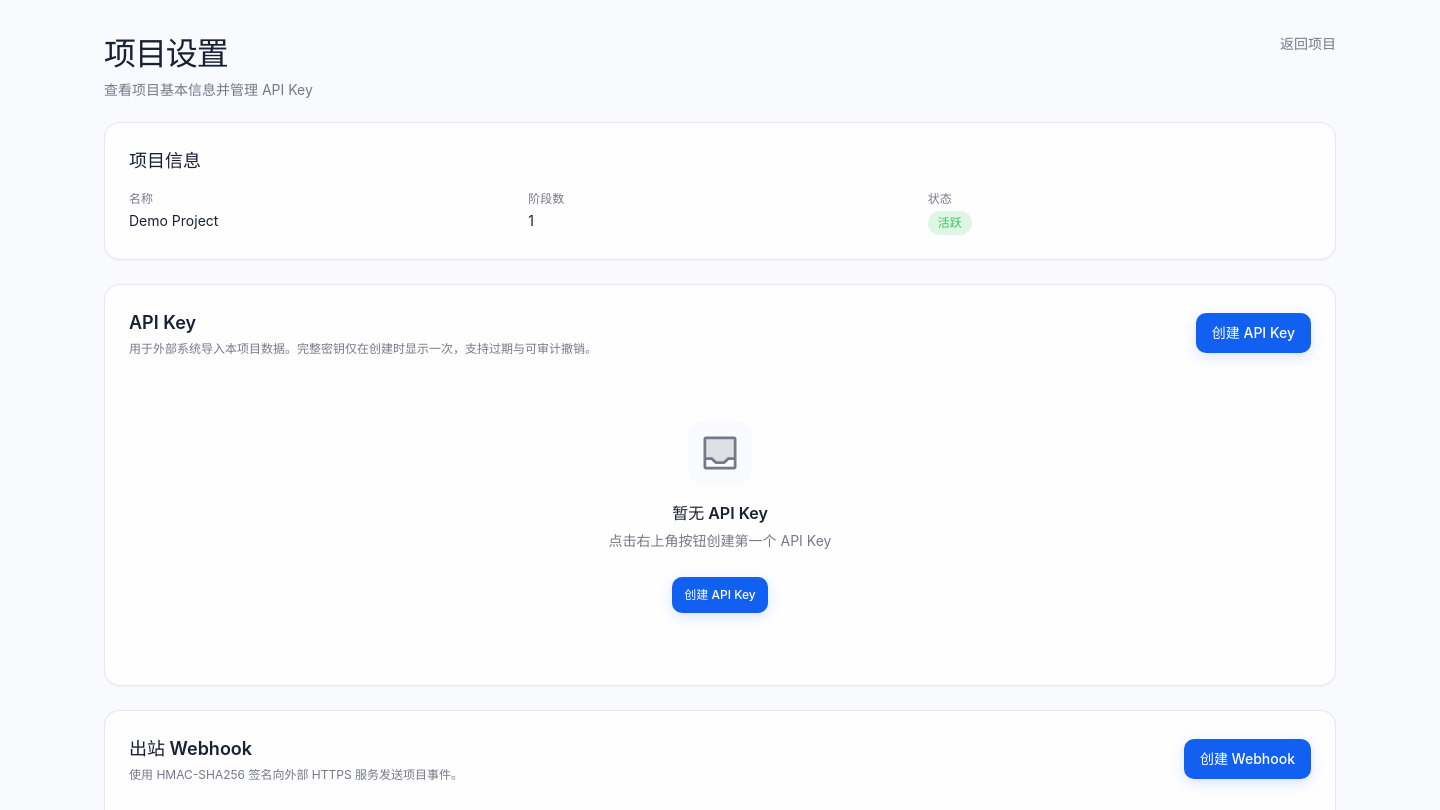
Test: ProjectSettingsPage › creates an IMPORT-scoped key with an expiry and shows the raw key once
Check: the text "Demo Project" is shown, box [129,212,218,229]
Click the button "创建 API Key" in the row of "用于外部系统导入本项目数据。完整密钥仅在创建时显示一次，支持过期与可审计撤销。": (1253, 333) [1196,313,1311,353]
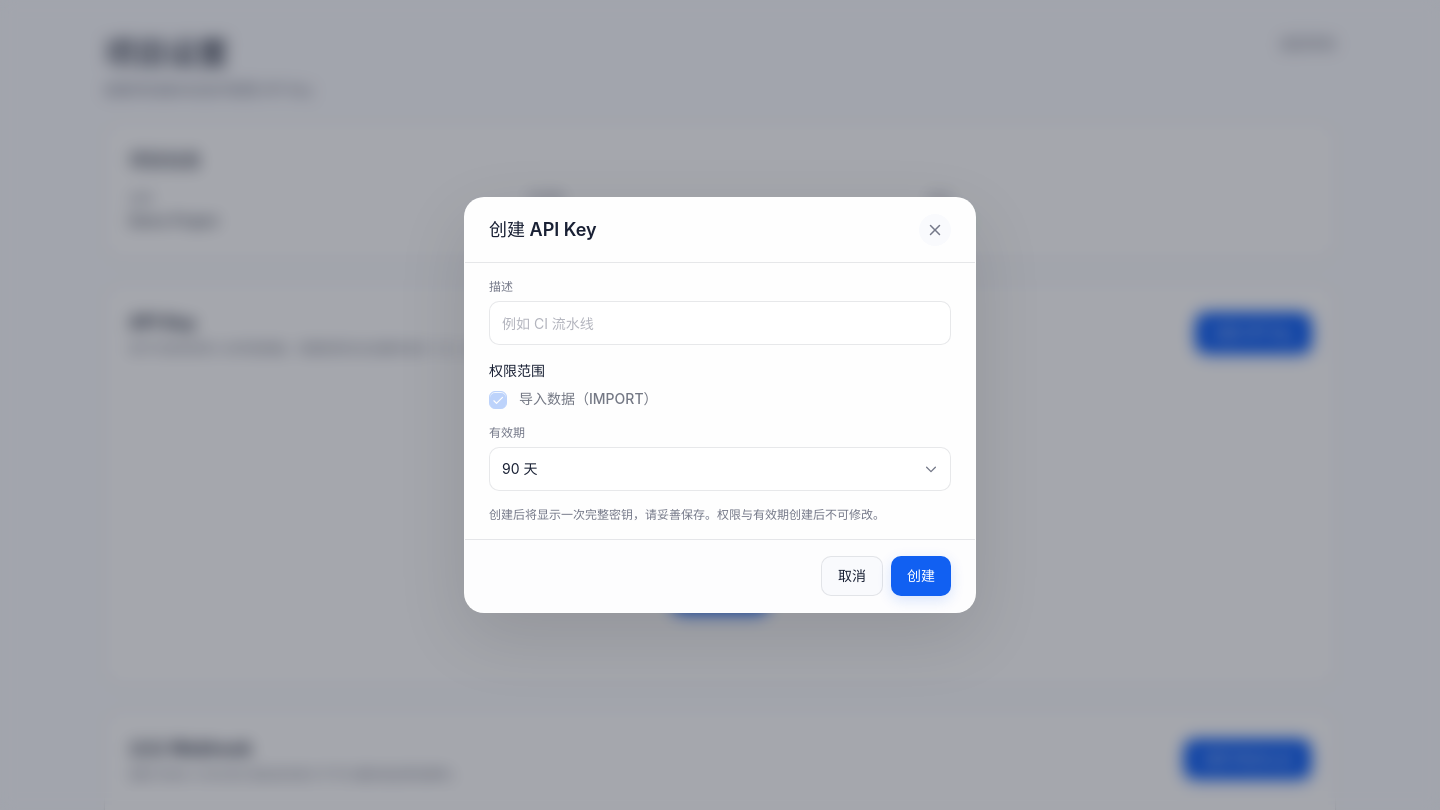
In the field labelled "描述": (720, 323) [489,301,951,345], type "CI pipeline"
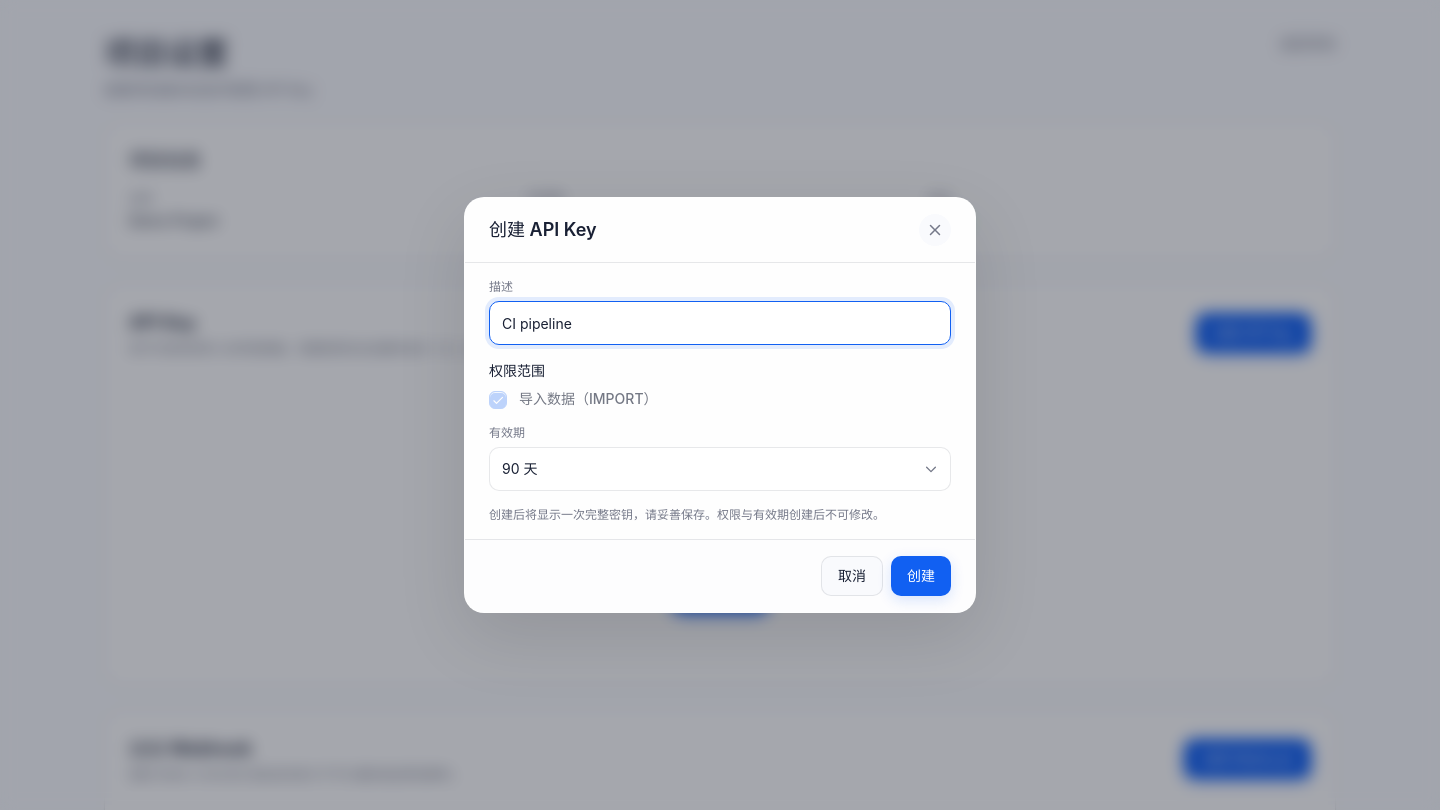
Click the dropdown named "有效期": (520, 468) [489,447,951,491]
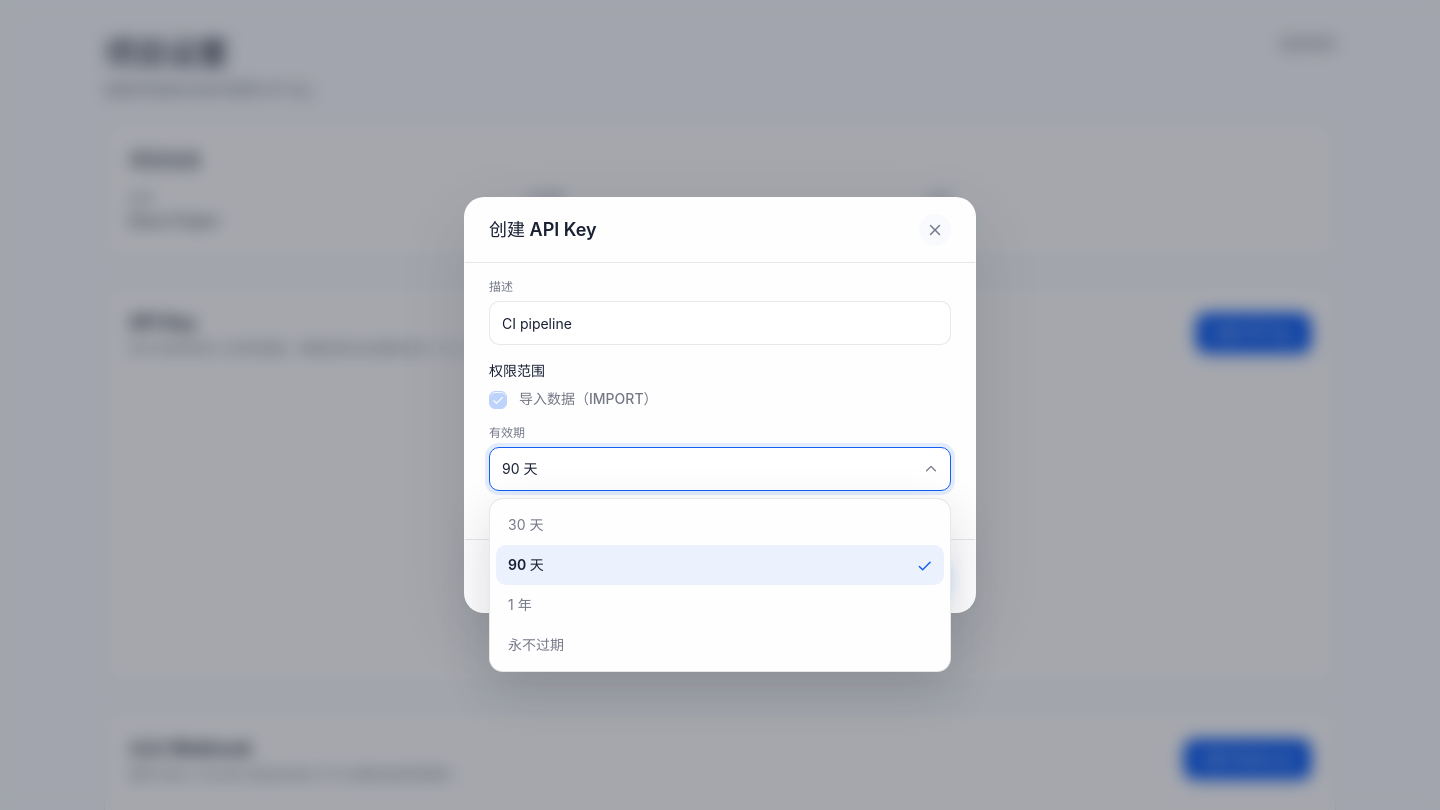
Click the option "30 天": (526, 524) [496,505,944,545]
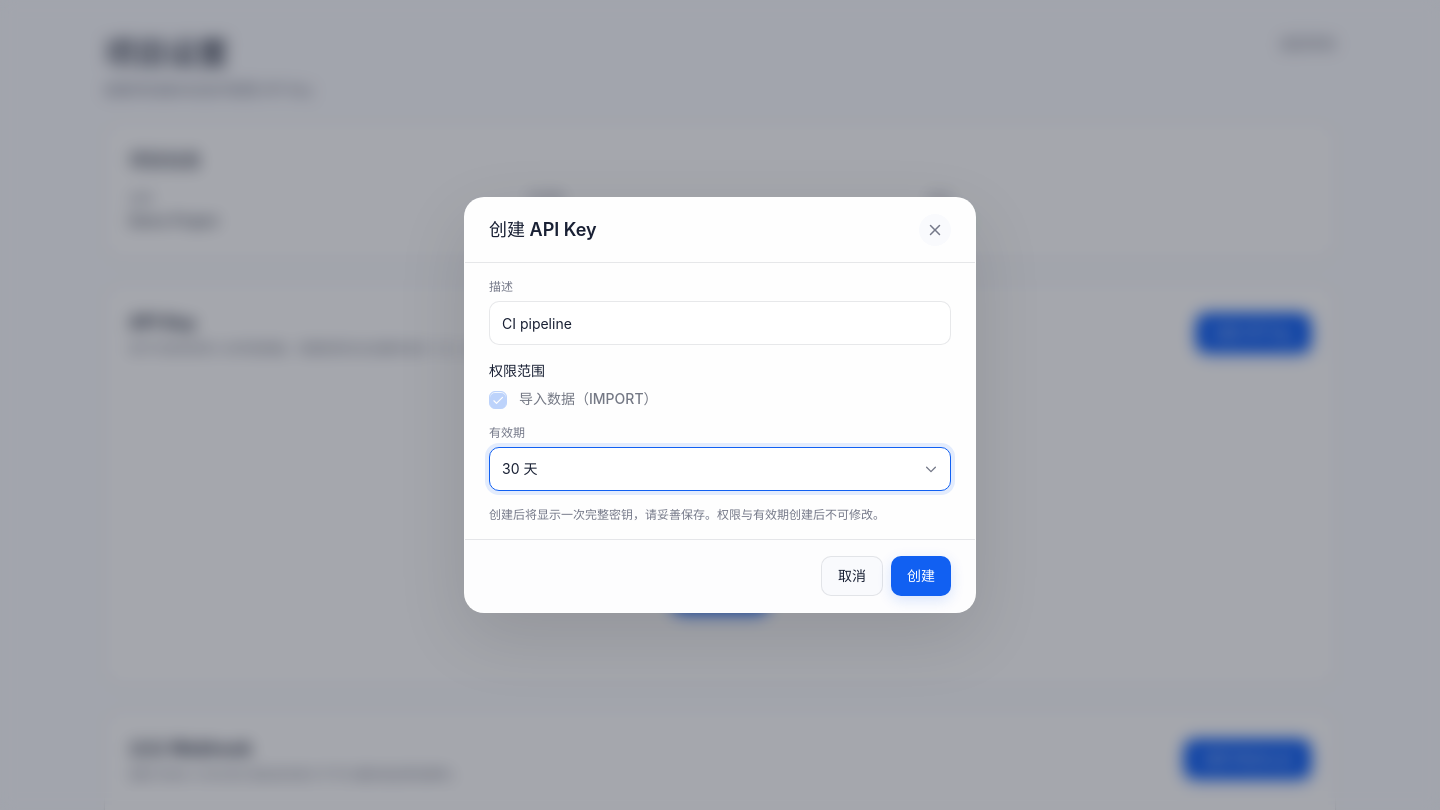
Click the button "创建": (921, 576) [891,556,951,596]
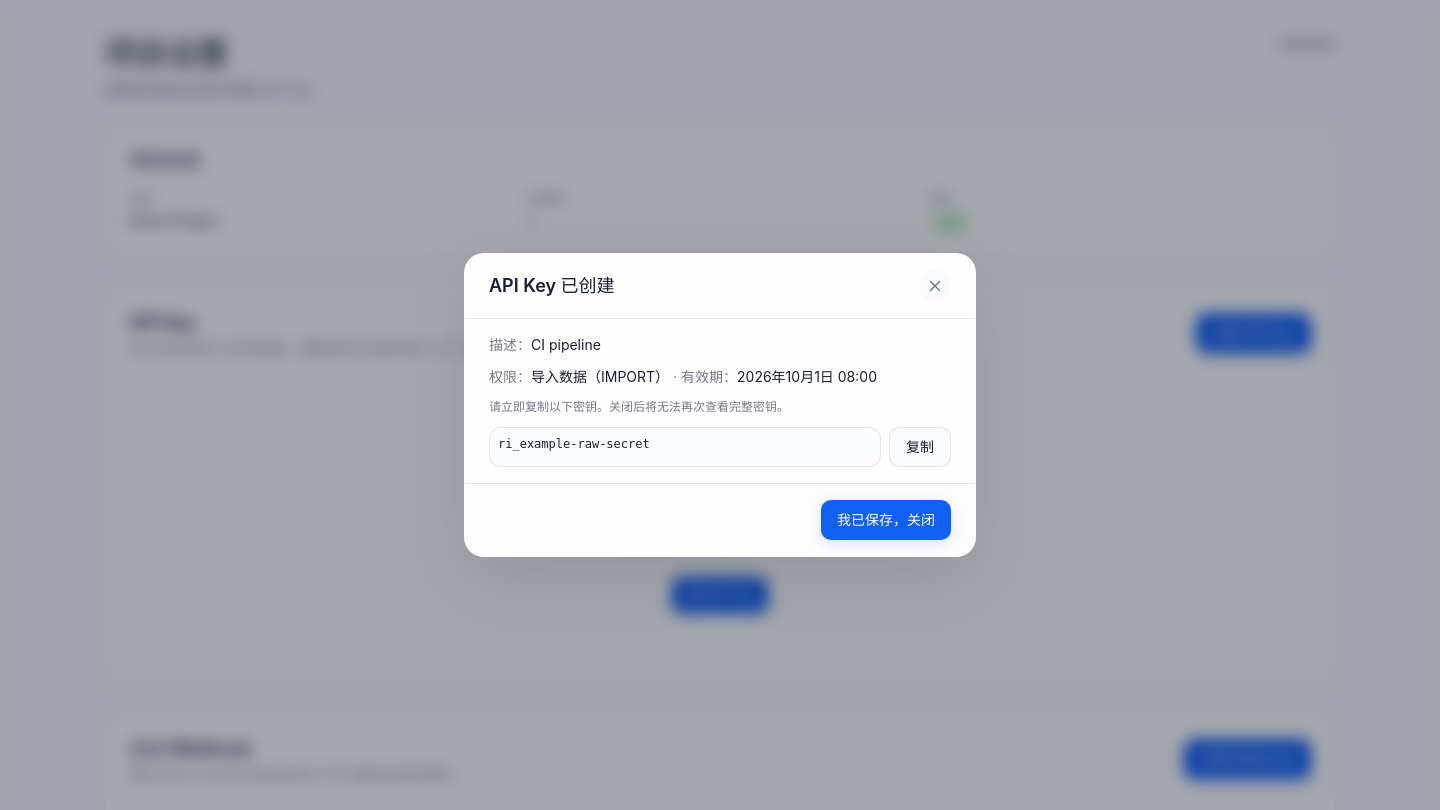
Check: the heading "API Key 已创建" is shown, box [489,272,615,300]
Check: the text with test id "issued-key" reads "ri_example-raw-secret", box [498,437,650,451]
Check: the text "CI pipeline" is shown, box [531,336,601,353]
